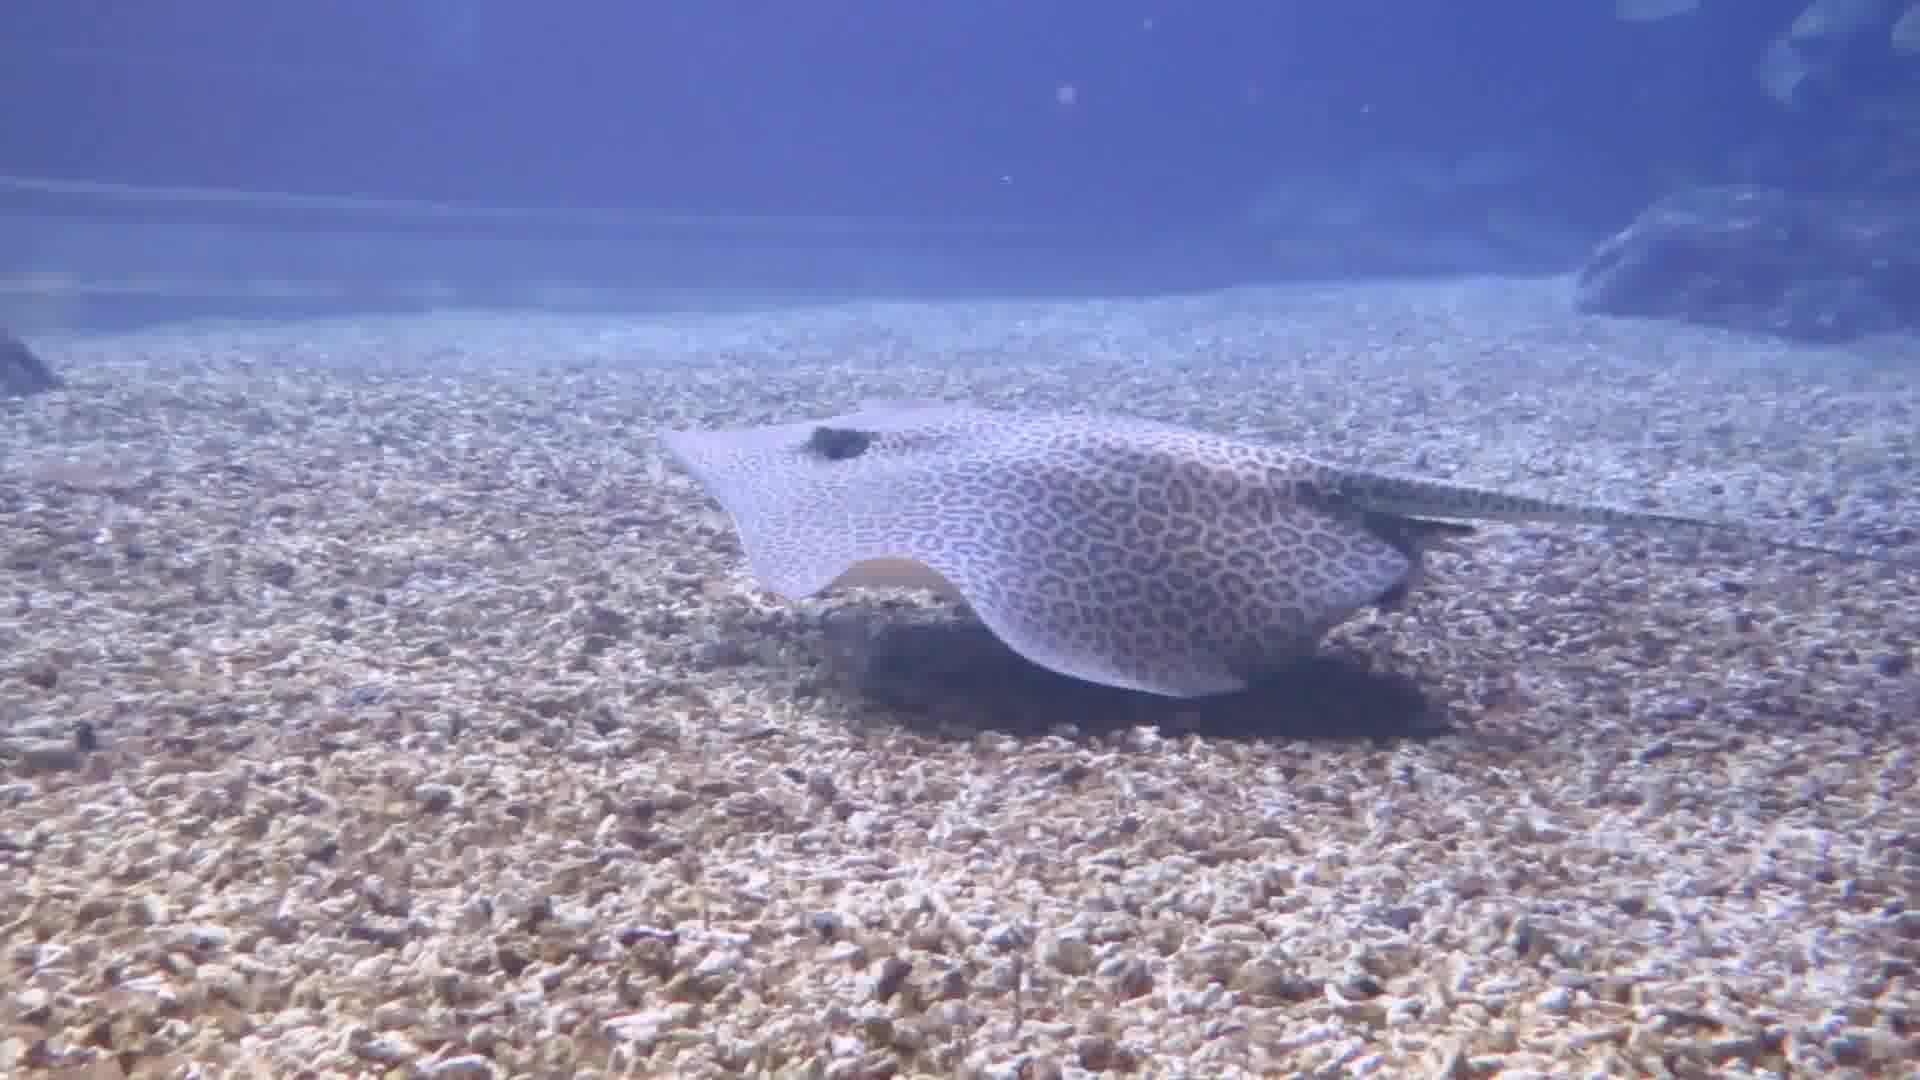Himantura uarnak: (545, 306, 1920, 785)
